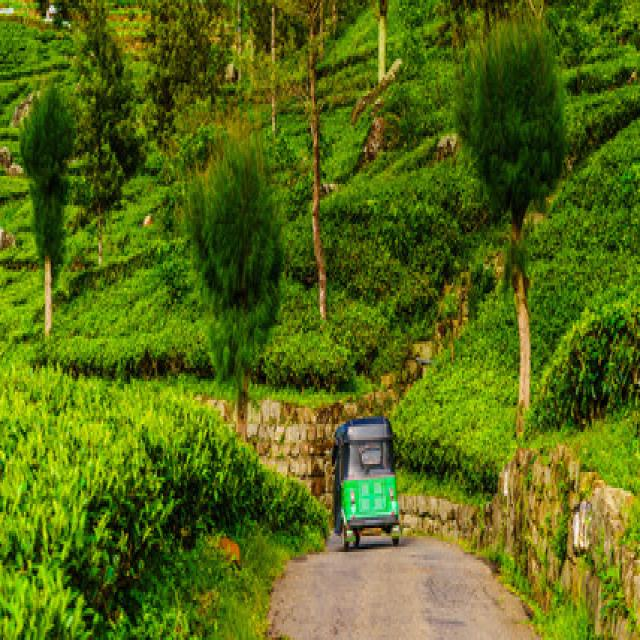three wheeler: (333, 416, 398, 547)
